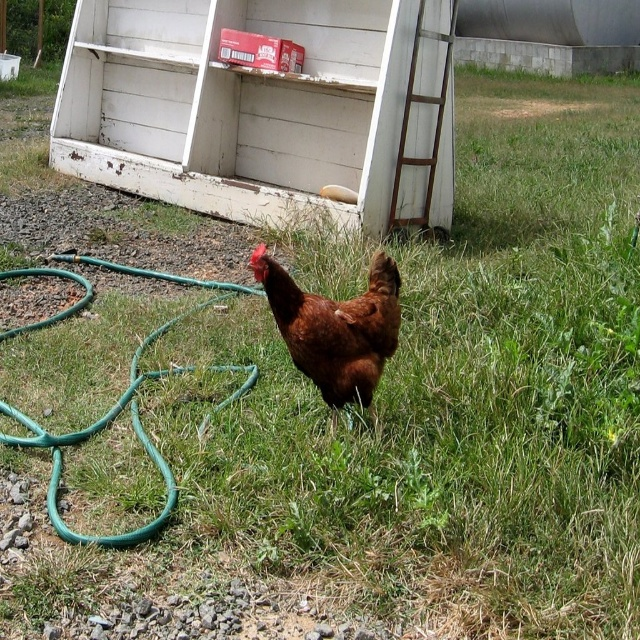Chicken: (246, 243, 402, 431)
